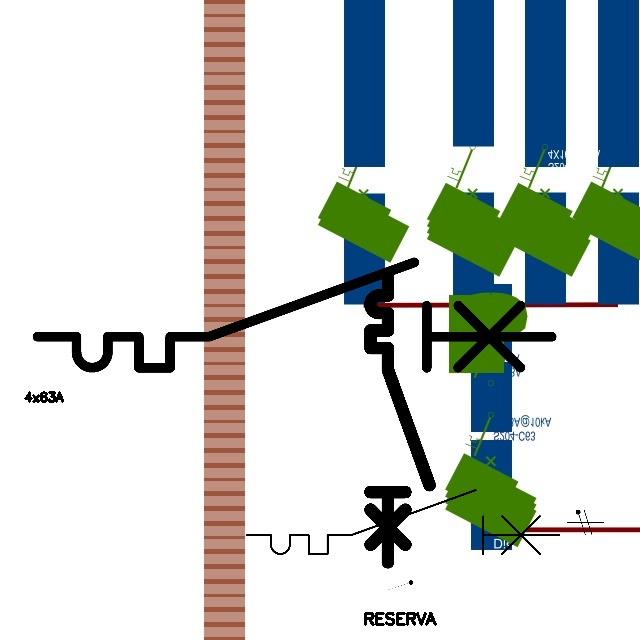interruptor_termomagnetico: (24, 249, 565, 381), (239, 482, 567, 562), (363, 266, 437, 569)
